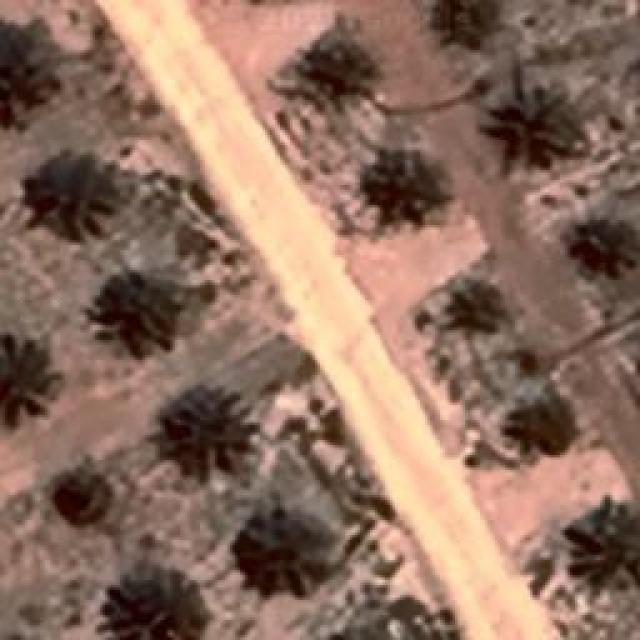PalmTree: (280, 7, 390, 135), (145, 378, 260, 492), (28, 154, 138, 238), (560, 494, 638, 598), (235, 508, 333, 580), (106, 575, 206, 640), (486, 90, 569, 162), (105, 272, 185, 346), (572, 208, 640, 292), (48, 468, 112, 542), (372, 166, 446, 226), (0, 33, 60, 106), (0, 332, 58, 406), (431, 0, 511, 48), (502, 394, 566, 448), (441, 275, 501, 330)
